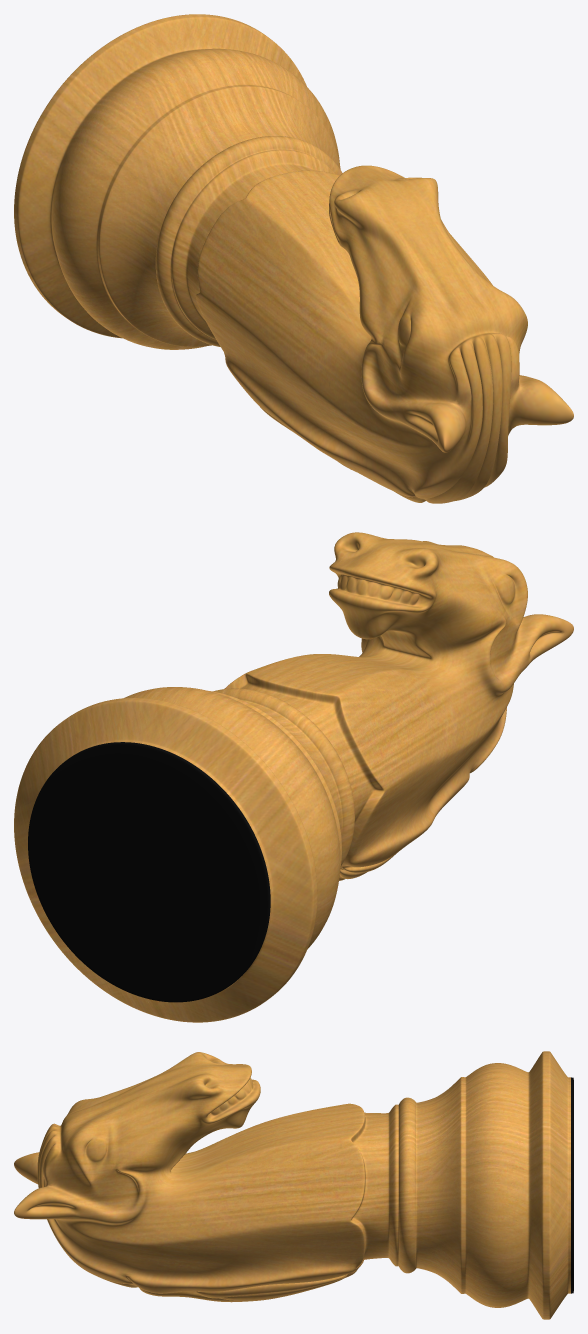
The model's file is chess_knight.obj.
3 renders of one model, top to bottom at view 1: azimuth 30°, elevation 25°; view 2: azimuth 150°, elevation 25°; view 3: azimuth 270°, elevation 25°, orthographic. The views are drawn at different scales.
Parts seen in each view (by area): view 1: 12930_WoodenChessNightSideA; view 2: 12930_WoodenChessNightSideA; view 3: 12930_WoodenChessNightSideA.
Part boxes in pixels (bbox=[...]): 12930_WoodenChessNightSideA: bbox=[14, 14, 573, 503]; 12930_WoodenChessNightSideA: bbox=[14, 532, 573, 1022]; 12930_WoodenChessNightSideA: bbox=[14, 1051, 573, 1319].
Bounding box in the file's own units: 4.59 × 4.59 × 9.58.
Materials: 1 (1 with a texture image).
